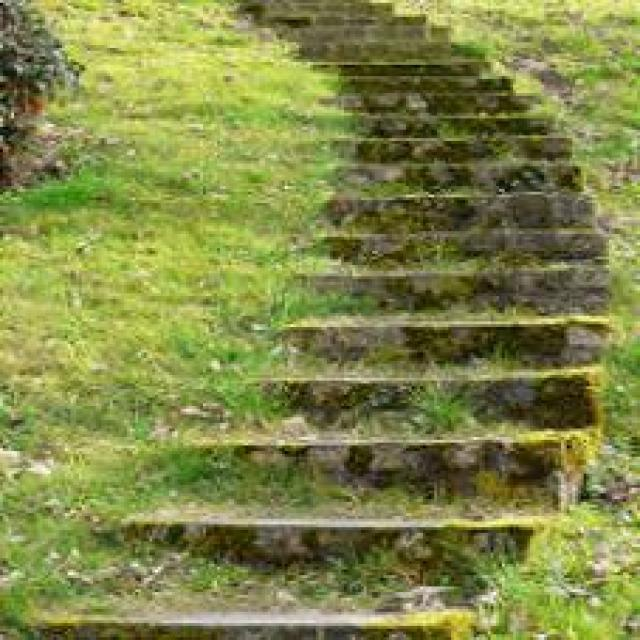stair: (237, 313, 598, 564)
